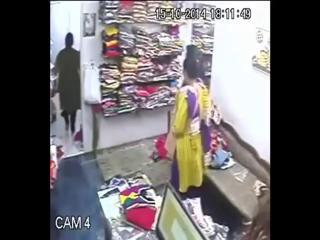Normal: (168, 46, 213, 194), (54, 32, 82, 134)
